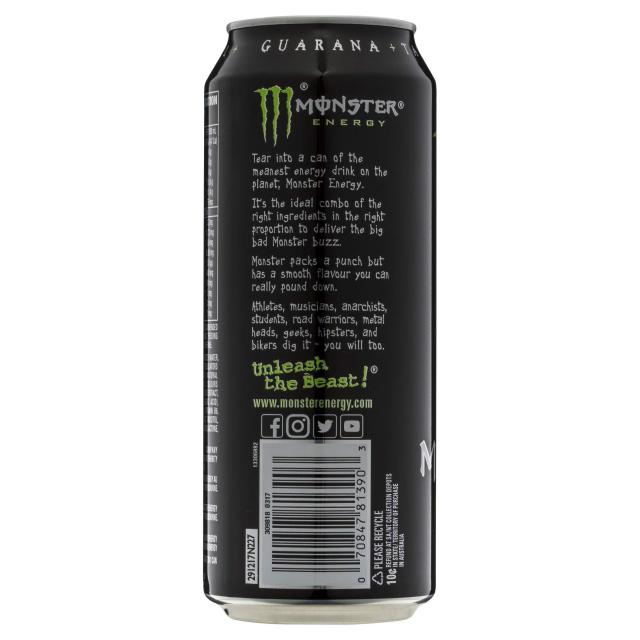Cans: (201, 0, 440, 640)
